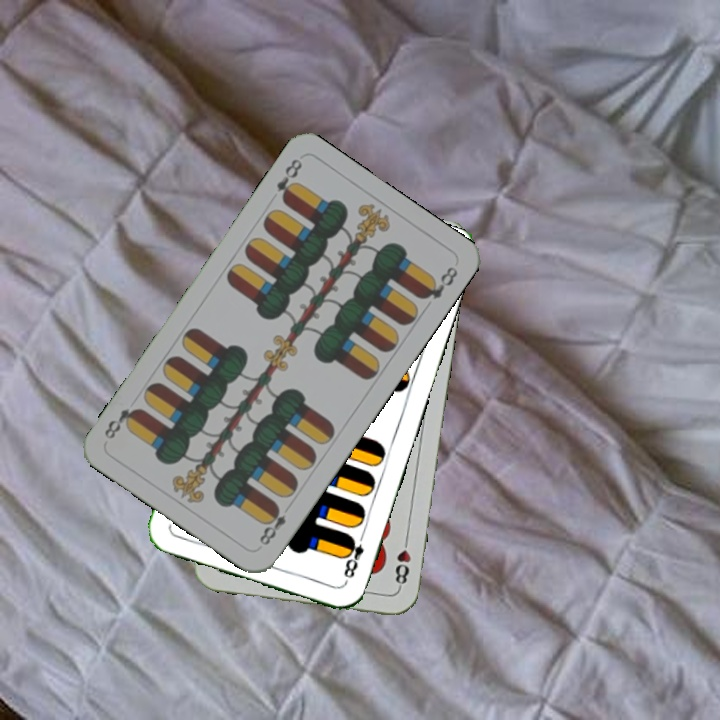E8: (272, 154, 305, 205), (339, 528, 368, 585), (255, 501, 289, 548)
H8: (391, 532, 413, 591)
